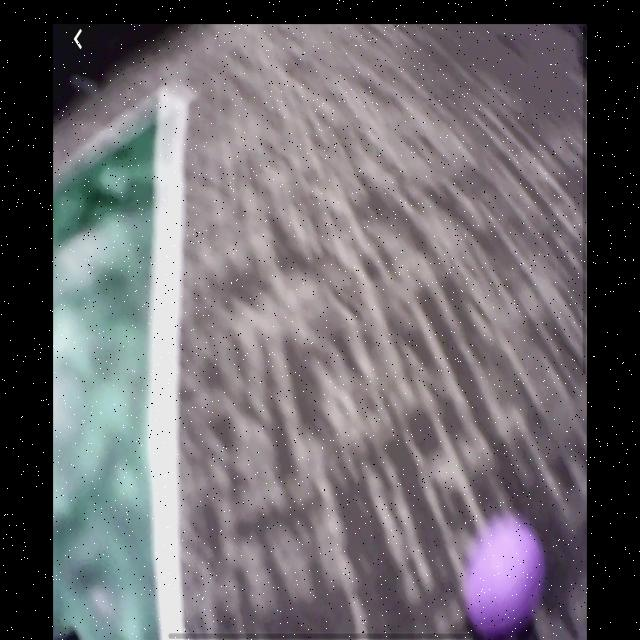ball: (462, 512, 546, 639)
